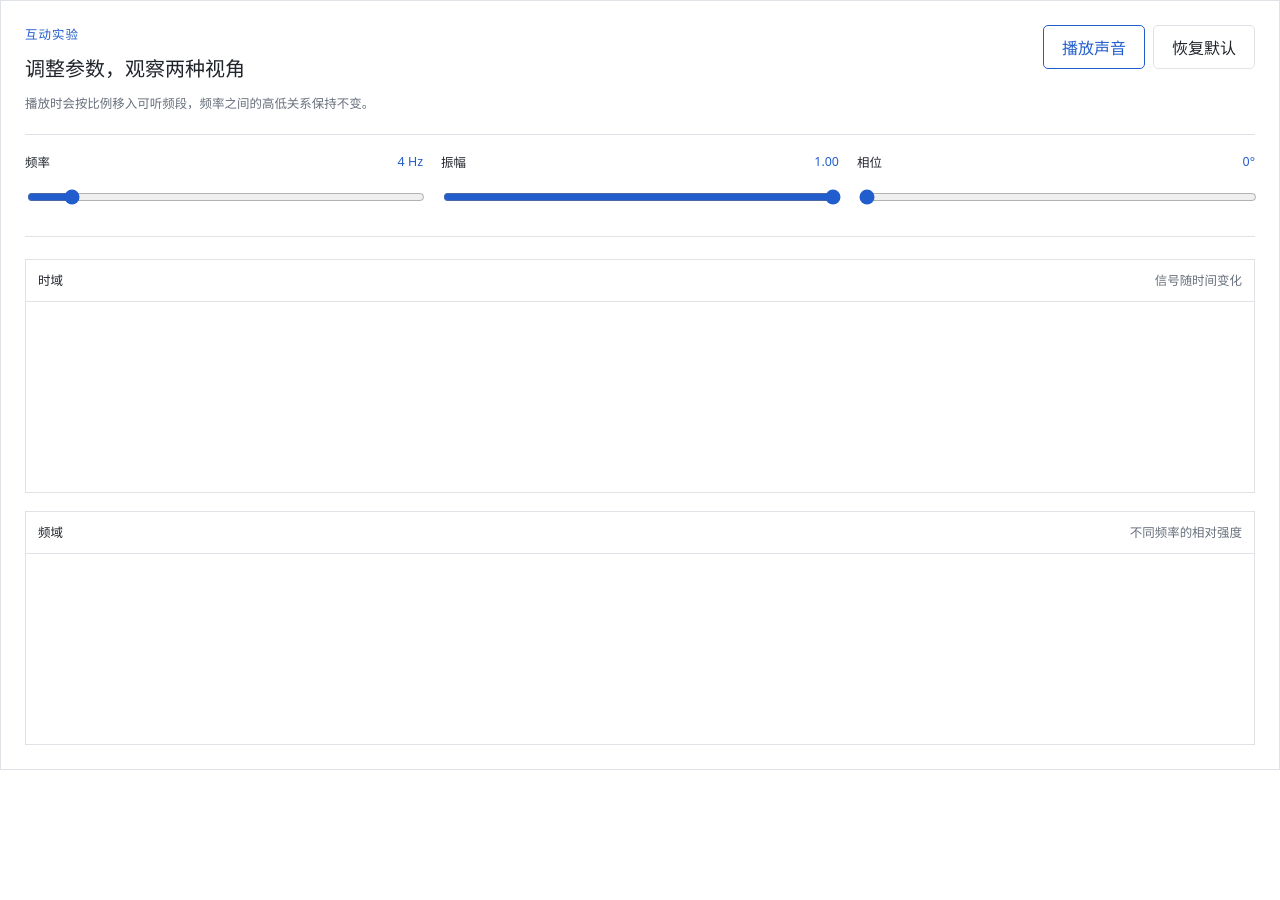
Scenario: Experiment › 调整频率后更新显示值
Set the slider named "频率" to "8" at [121, 197], box [27,181,425,213]
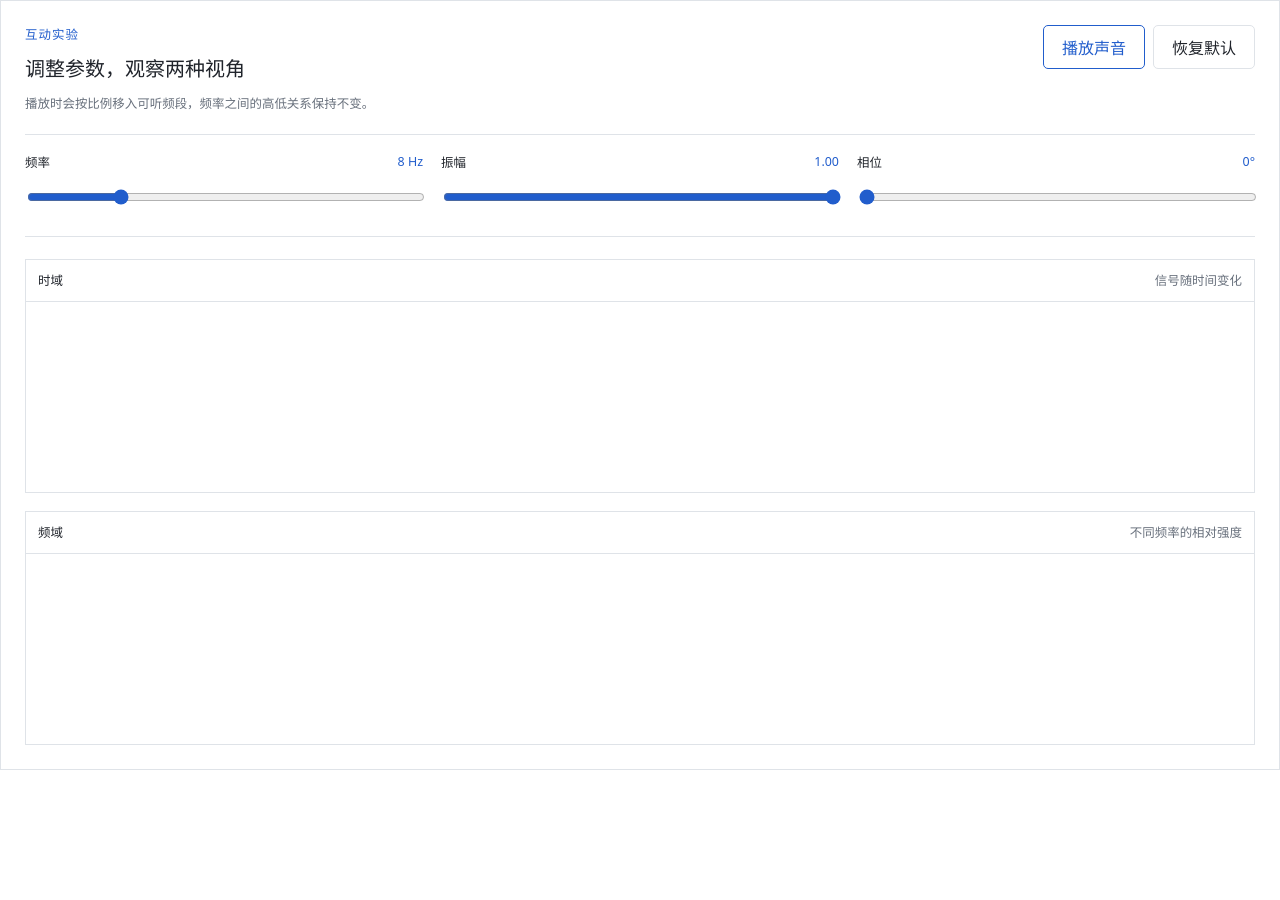
Now the text "8 Hz" is shown, box [398,153,423,171]
